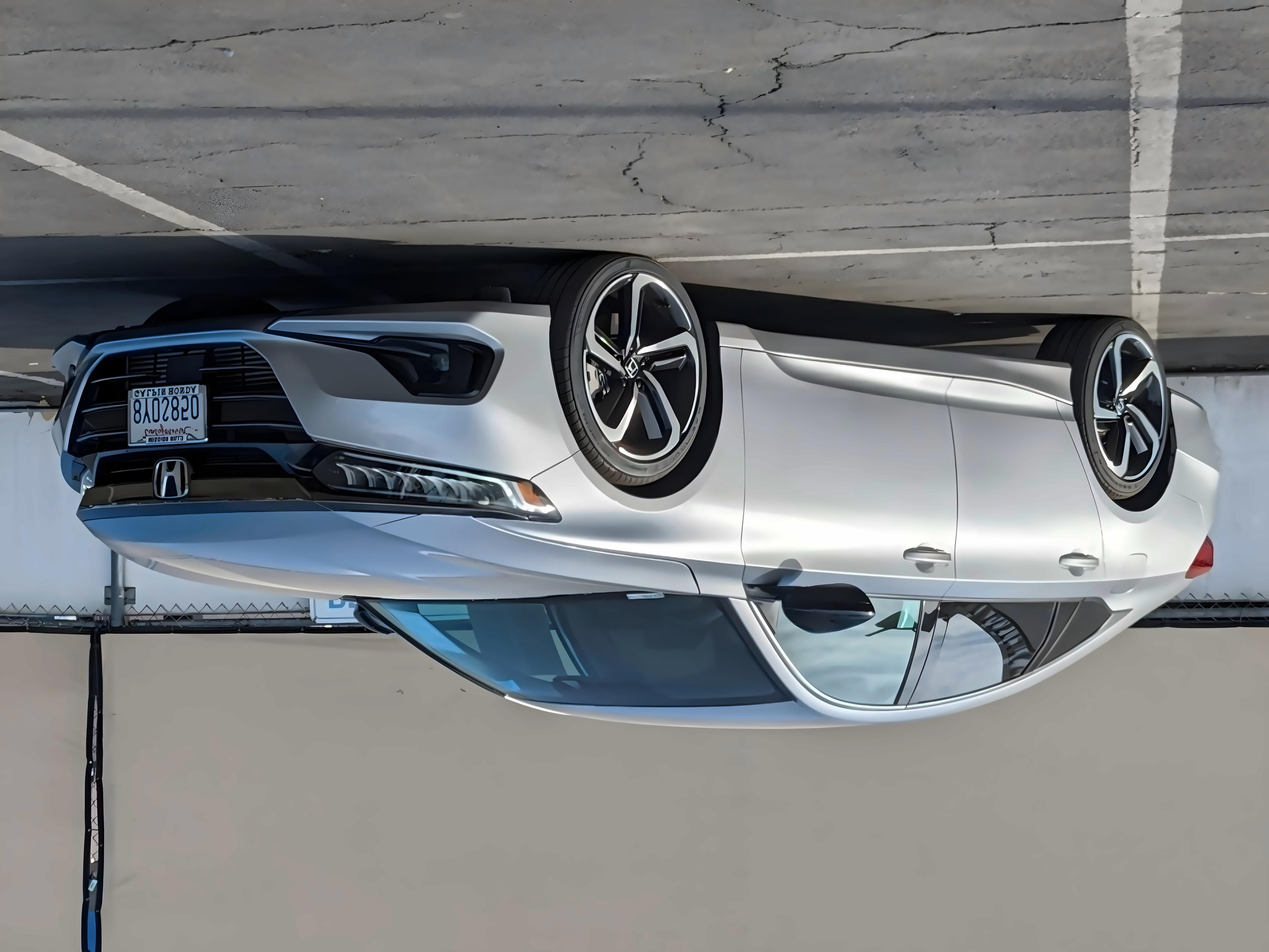Car hood: (72, 510, 706, 607)
Driver-s door - -F-R-: (709, 308, 964, 740)
Fender - -F-R-: (515, 316, 750, 599)
Fender - -R-R-: (1055, 371, 1193, 627)
Front bumper: (42, 301, 580, 497)
Headlight - -R-: (298, 445, 566, 528)
Passenger-s door - -R-R-: (898, 307, 1102, 736)
Rear bumper: (1164, 377, 1225, 479)
Rear light - -R-: (1182, 531, 1220, 589)
Side bumper - -R-: (709, 305, 1094, 440)
Side mirror - -R-: (744, 568, 877, 641)
